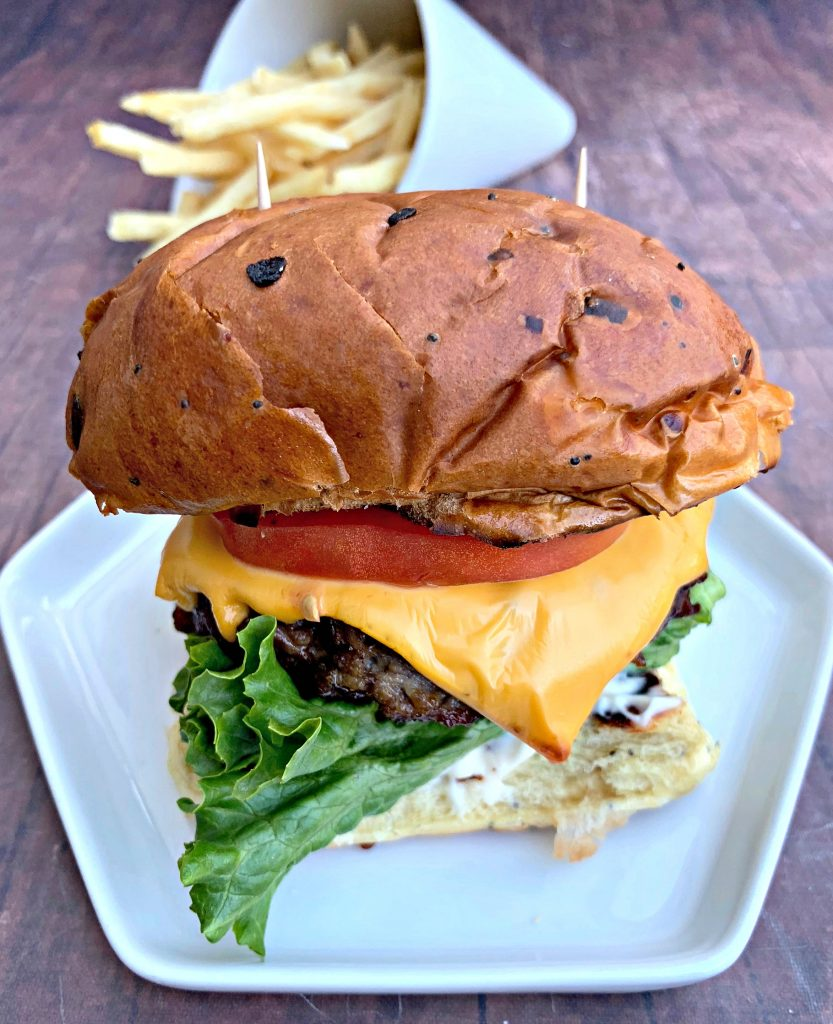hamburger_buns: (36, 198, 820, 526)
